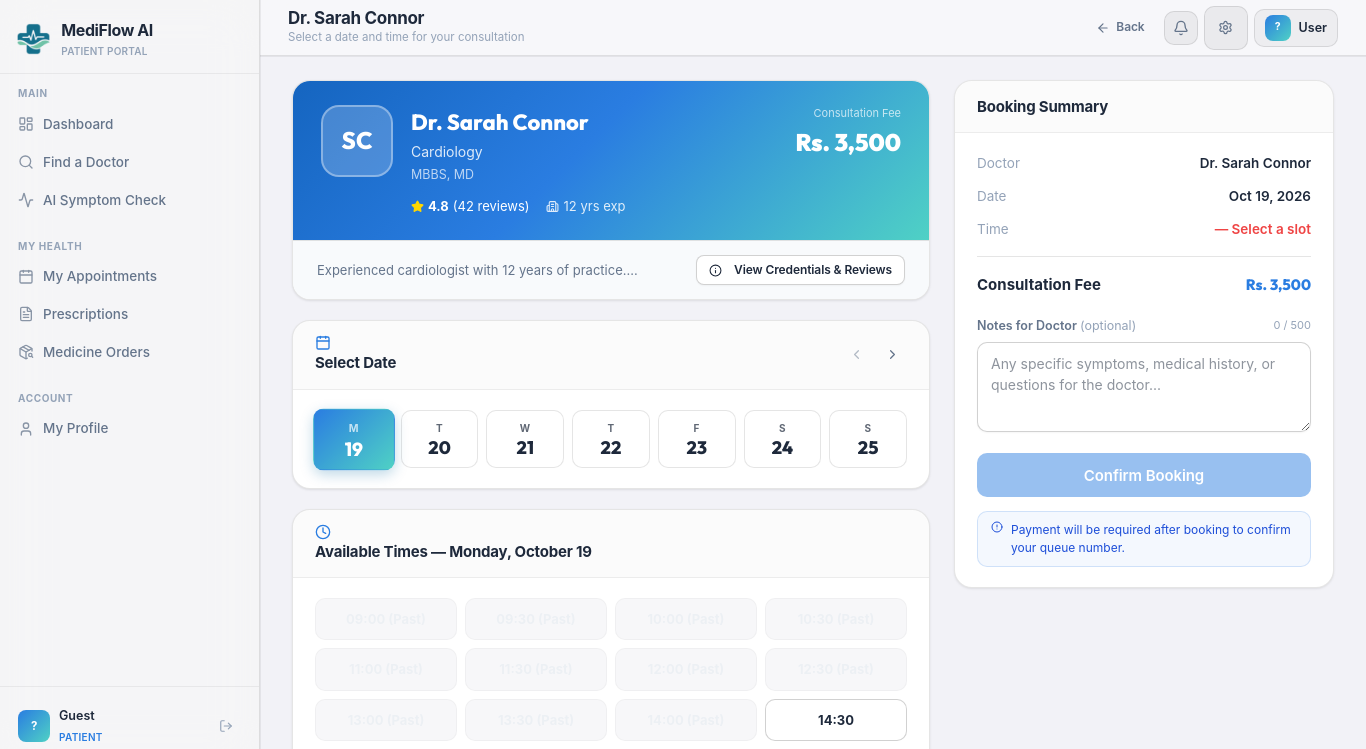
Test: Patient Portal Validations › DoctorBookingPage Validations › marks slot as Booked when the patient already has an appointment at that slot
Click the button "T 20" at x=440, y=439, box [401, 410, 478, 468]
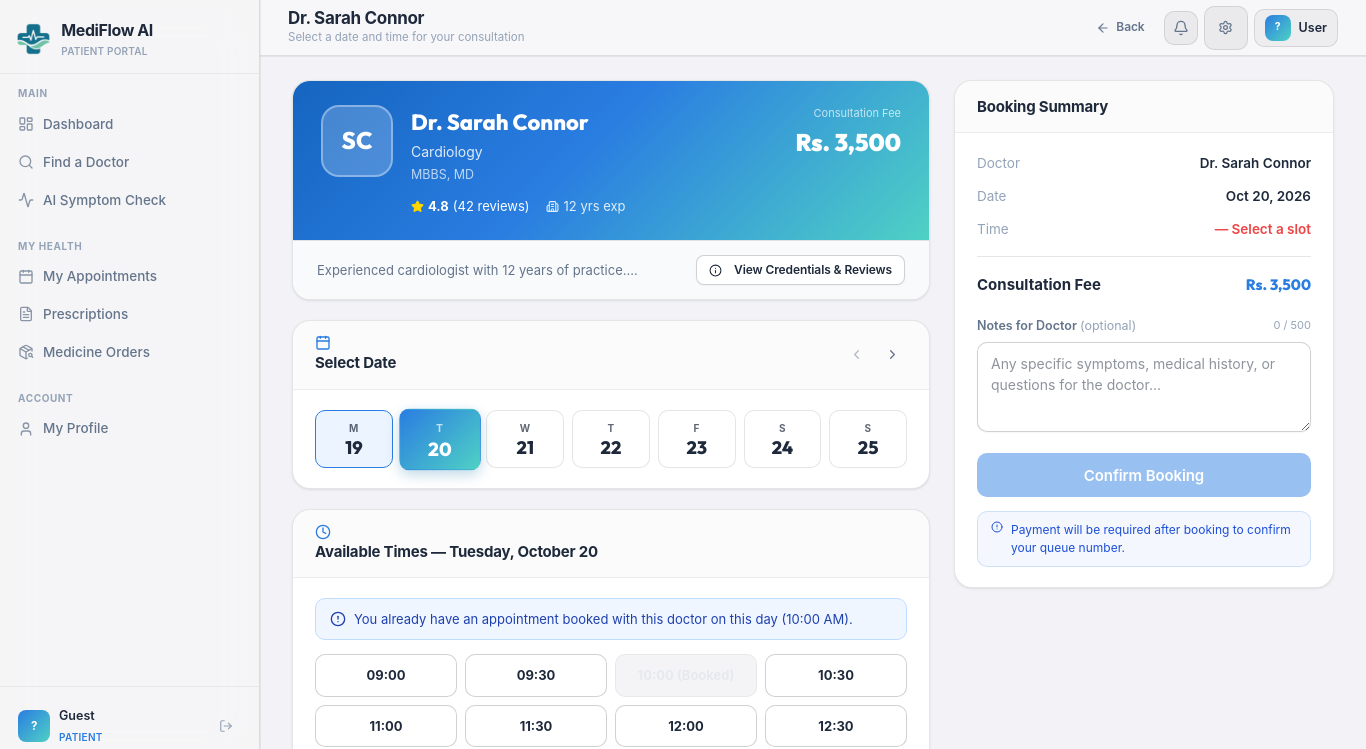
Expected: the button "10:00 (Booked)" is disabled, [615, 654, 757, 696]
Result: the button "10:30" is enabled at [765, 654, 907, 696]
